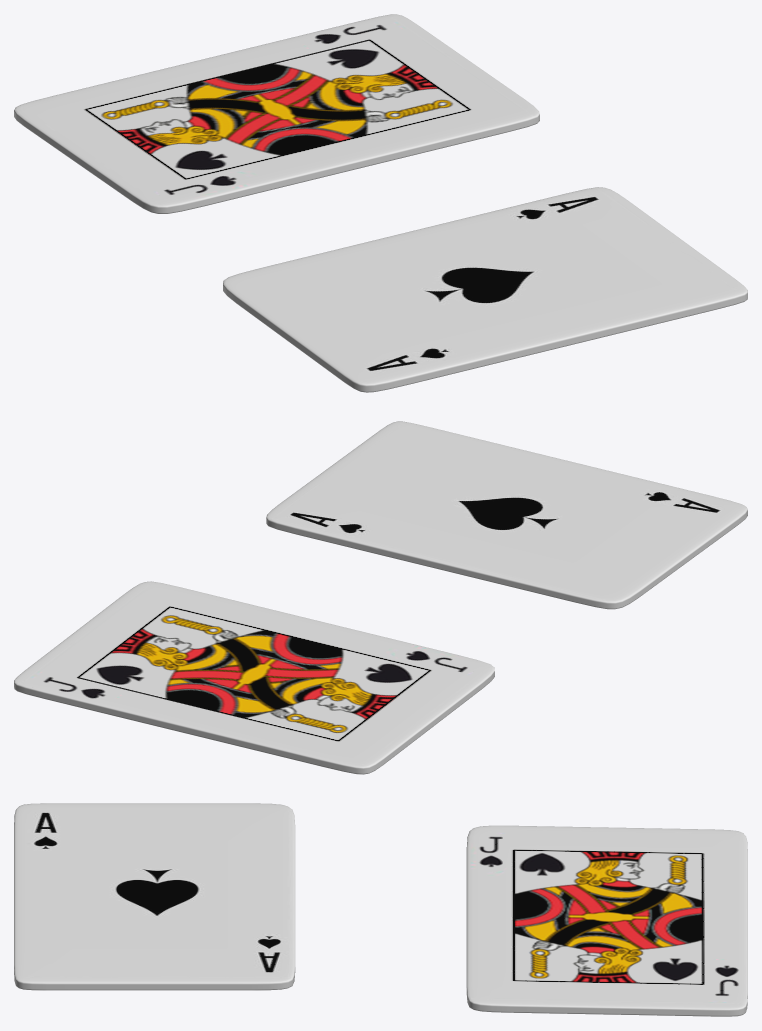
Rendered from cartas.fbx.
The picture shows the model from 3 angles, top to bottom: view 1: azimuth 30°, elevation 25°; view 2: azimuth 150°, elevation 25°; view 3: azimuth 270°, elevation 25°; orthographic projection. The views are drawn at different scales.
Visible parts, largest first — view 1: Box001, Box002; view 2: Box002, Box001; view 3: Box001, Box002.
Boxes of the visible parts, x1,y1,x2,y2 form: Box001: (223,187,747,392); Box002: (14,14,539,213); Box002: (14,581,494,774); Box001: (266,421,747,609); Box001: (14,803,295,990); Box002: (466,825,747,1016).
Bounding box in the file's own units: 9.55 × 0.4534 × 15.14.
